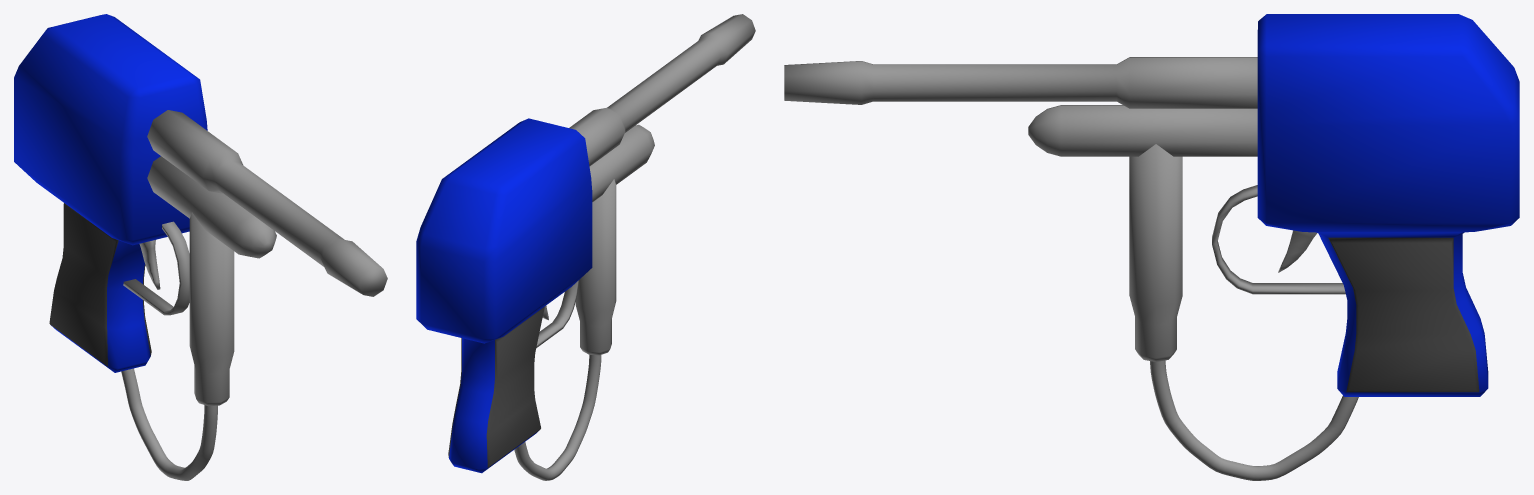
File: pistol.gltf
3 renders of one model, left to right at view 1: azimuth 30°, elevation 25°; view 2: azimuth 150°, elevation 25°; view 3: azimuth 270°, elevation 25°, orthographic. The views are drawn at different scales.
Parts seen in each view (by area): view 1: PBPistol; view 2: PBPistol; view 3: PBPistol.
Boxes of the visible parts, left/top/right/bottom form: PBPistol: left=14, top=14, right=387, bottom=480; PBPistol: left=416, top=14, right=755, bottom=480; PBPistol: left=784, top=14, right=1519, bottom=480.
Bounding box in the file's own units: 0.0408 × 0.1742 × 0.2574.
